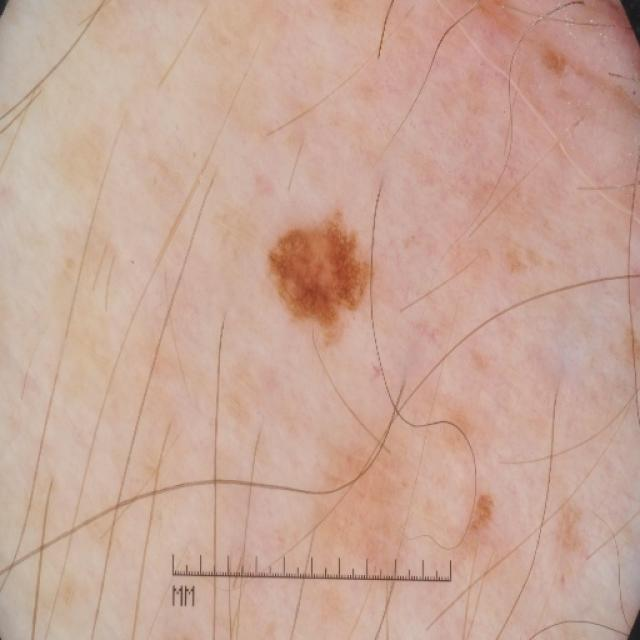Melanoma: (229, 45, 605, 580)
